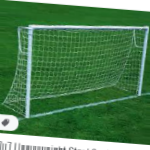goals: (3, 21, 150, 118)
